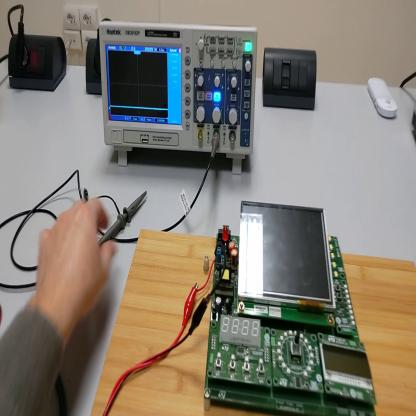hand: (36, 199, 115, 322)
low voltage board: (205, 203, 377, 415)
oscilloscope: (100, 22, 260, 179)
oscilloscope probe tip: (97, 192, 148, 248)
socket: (8, 33, 67, 95), (87, 36, 102, 95)
working area: (91, 232, 416, 414)
